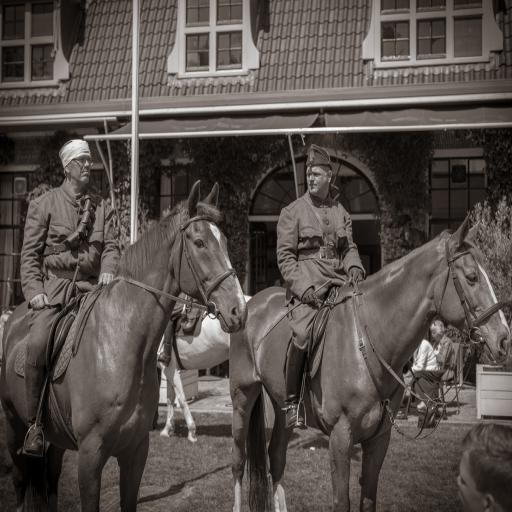horse: (230, 206, 512, 512), (0, 178, 250, 512), (156, 294, 256, 448)
